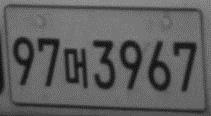3: (91, 39, 116, 89)
6: (147, 39, 172, 91)
7: (172, 41, 198, 91), (37, 37, 61, 87)
9: (119, 38, 143, 91), (12, 35, 35, 85)
머: (62, 47, 89, 89)
